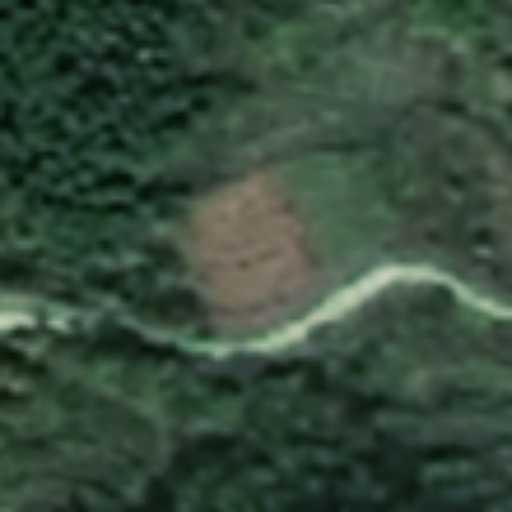landslide: (180, 172, 327, 322)
